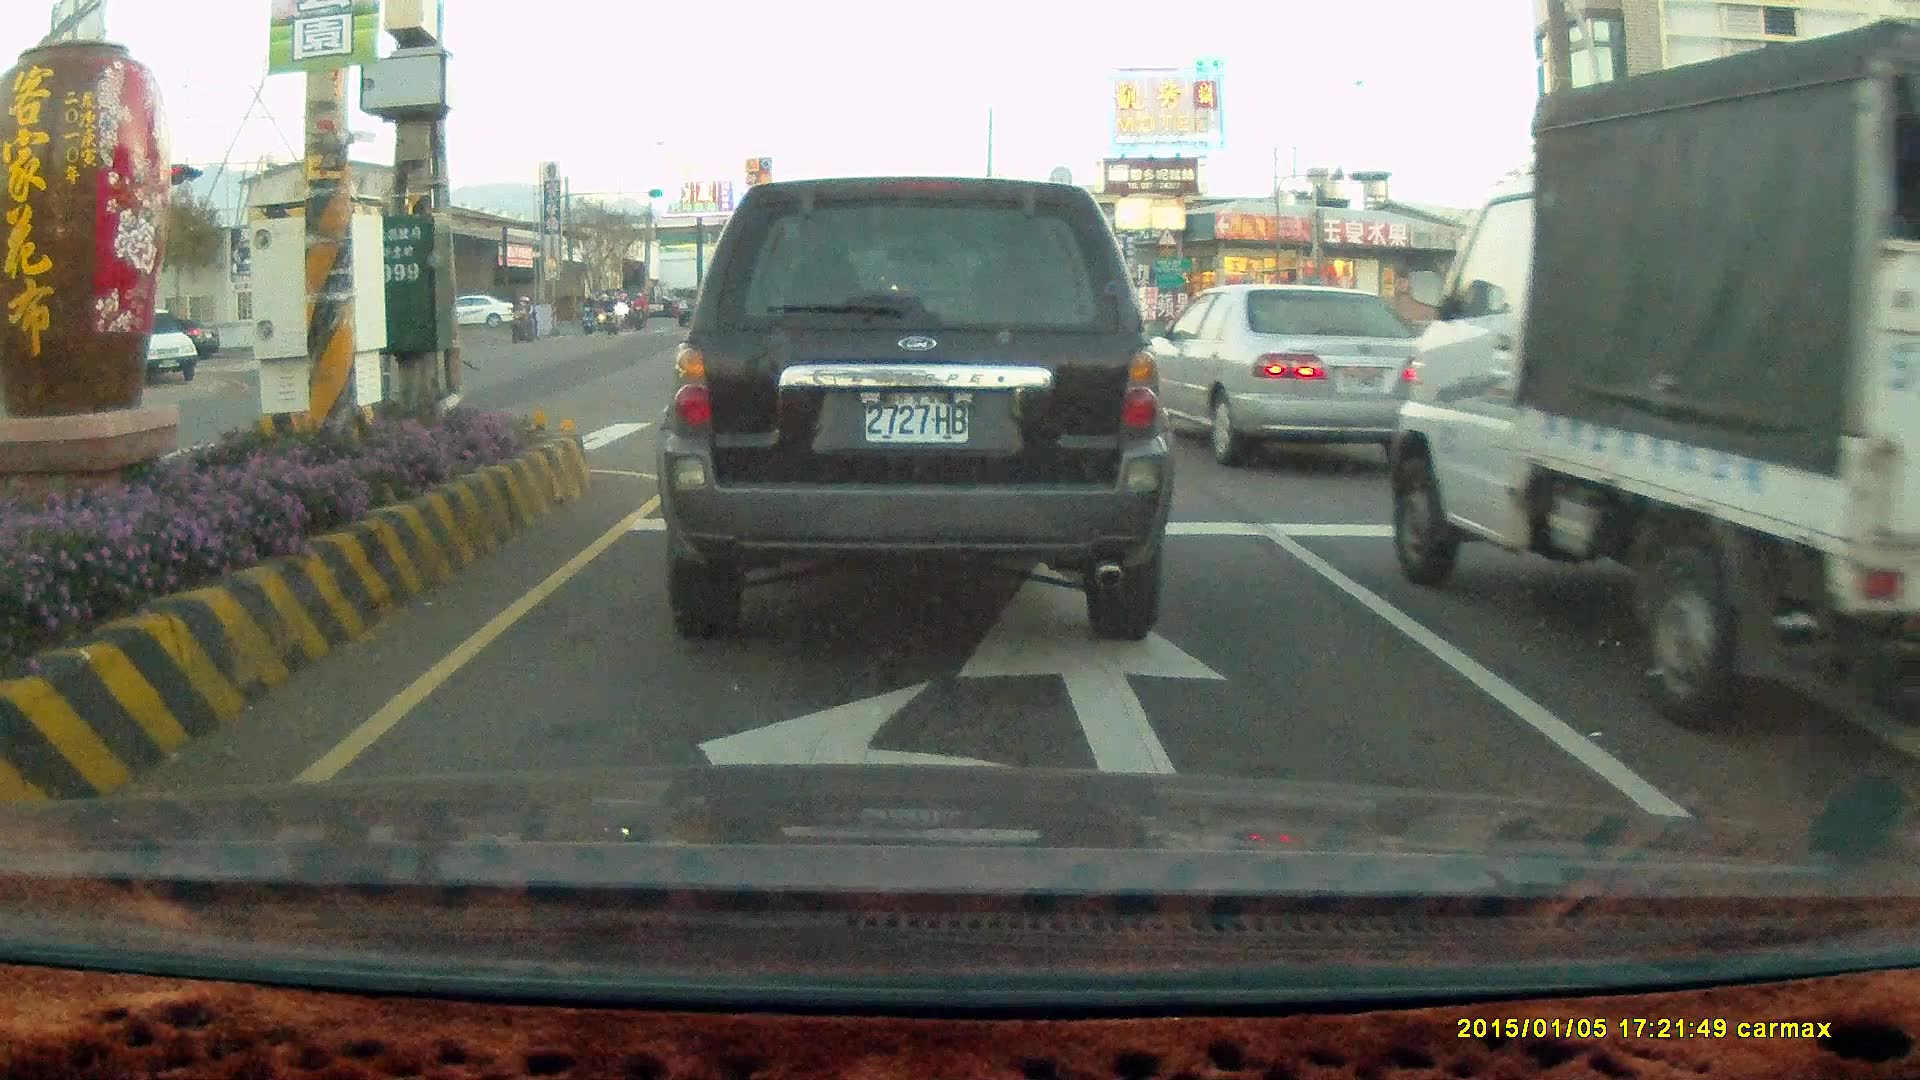rider: (505, 295, 537, 342), (601, 290, 627, 339), (578, 291, 599, 338), (583, 294, 605, 334), (628, 289, 649, 329)
vehicle: (1389, 18, 1920, 731), (652, 173, 1173, 637), (1134, 280, 1448, 467), (1129, 286, 1428, 465), (1687, 284, 1844, 372), (109, 309, 200, 390), (448, 297, 514, 331)
